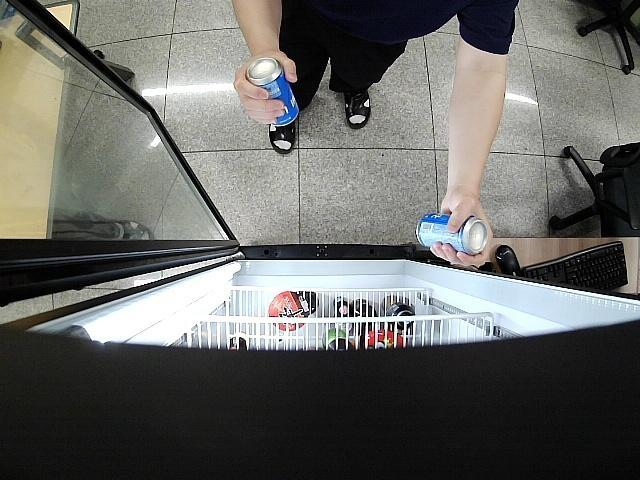15_letsbe: (246, 56, 302, 126), (416, 212, 488, 256)
